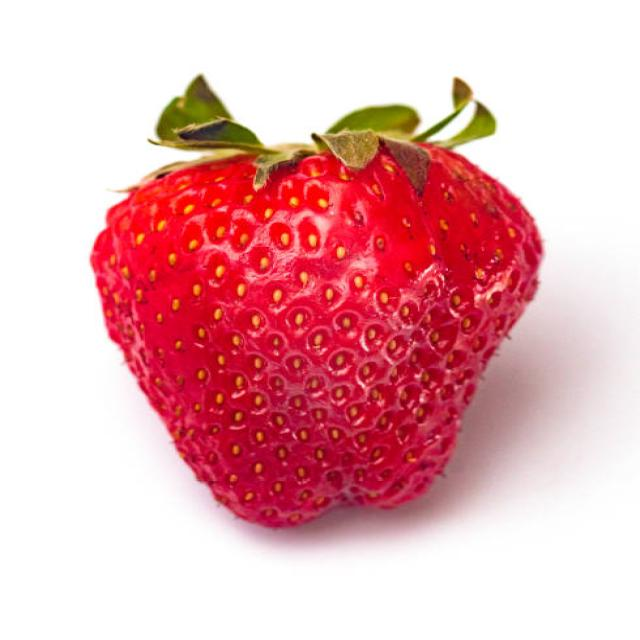Healthy Fruit: (87, 137, 544, 529)
